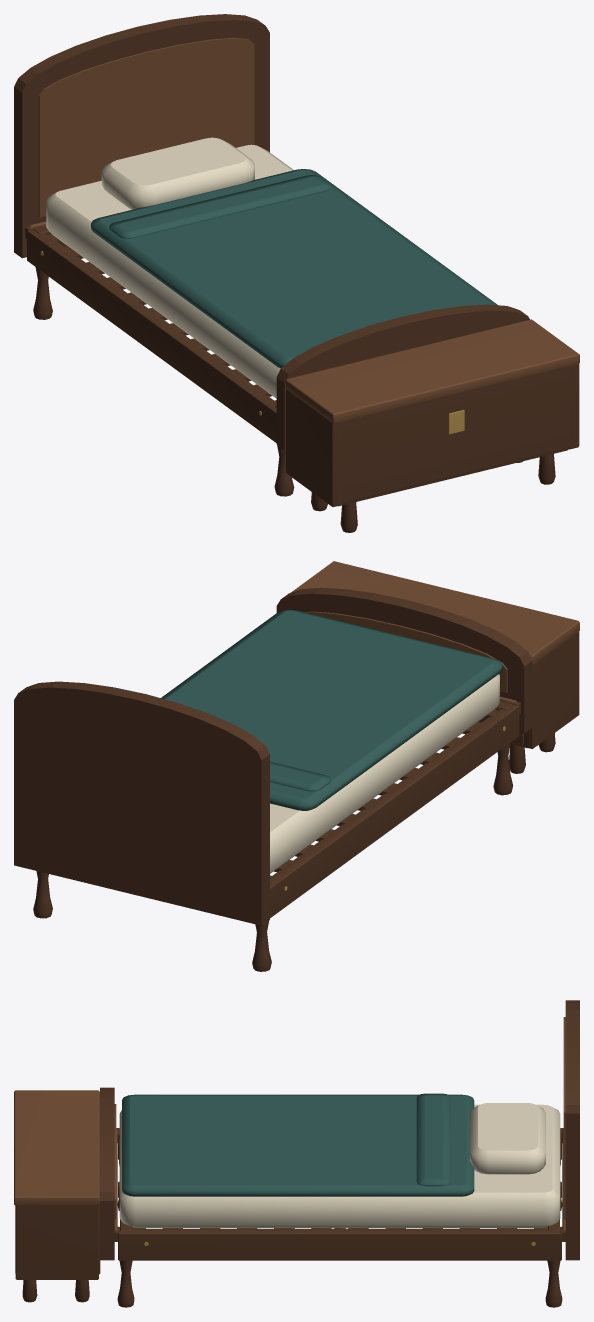
Rendered from rpg-mansion-footlocker-single-bed-01.glb.
3 renders of one model, top to bottom at view 1: azimuth 30°, elevation 25°; view 2: azimuth 150°, elevation 25°; view 3: azimuth 270°, elevation 25°, orthographic. The views are drawn at different scales.
Parts seen in each view (by area): view 1: rpg-mansion-footlocker-single-bed-01; view 2: rpg-mansion-footlocker-single-bed-01; view 3: rpg-mansion-footlocker-single-bed-01.
Boxes of the visible parts, left/top/right/bottom form: rpg-mansion-footlocker-single-bed-01: left=14, top=14, right=579, bottom=532; rpg-mansion-footlocker-single-bed-01: left=14, top=561, right=579, bottom=971; rpg-mansion-footlocker-single-bed-01: left=14, top=1000, right=579, bottom=1307.
Size of the model in its own units: 1.12 by 1.09 by 2.5.
